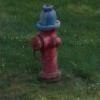Hydrant: (26, 2, 77, 92)
